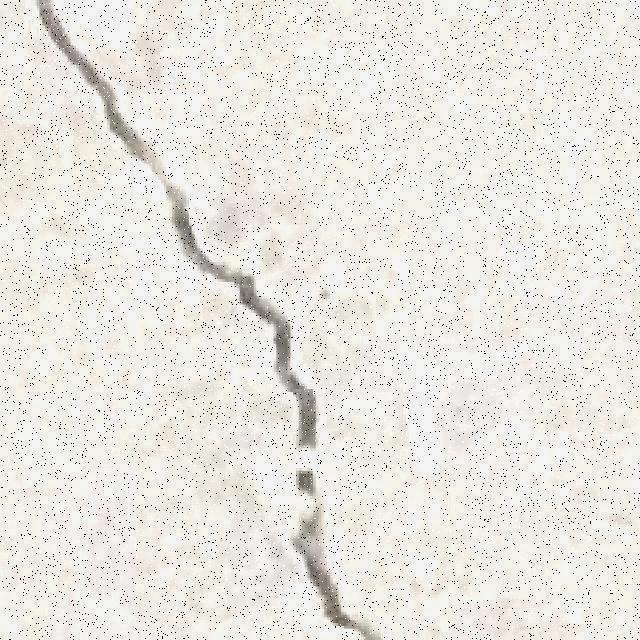crack: (39, 10, 240, 273), (280, 468, 592, 632), (256, 315, 397, 640), (288, 228, 389, 311), (272, 328, 318, 447)
